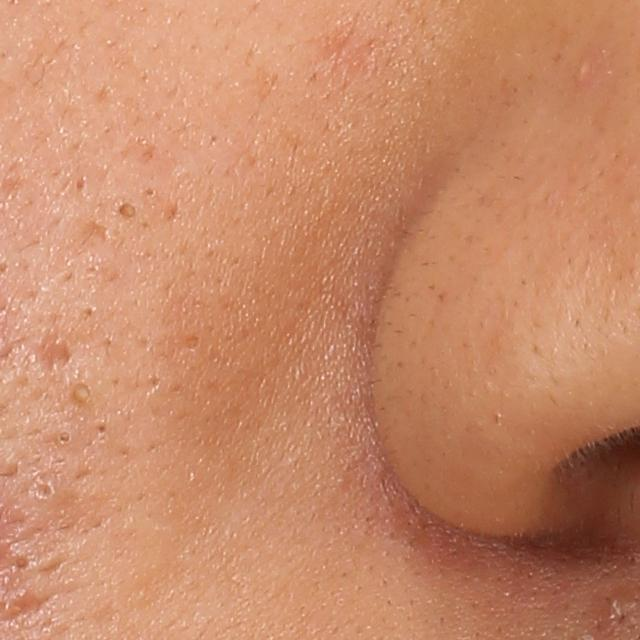atrophic_scar: (23, 334, 76, 376), (78, 218, 109, 246)
comedo: (66, 376, 92, 408), (32, 478, 61, 505), (113, 198, 140, 225), (54, 426, 78, 449), (72, 173, 94, 195), (180, 331, 203, 352), (94, 419, 111, 439), (83, 303, 100, 320), (145, 185, 156, 200)
